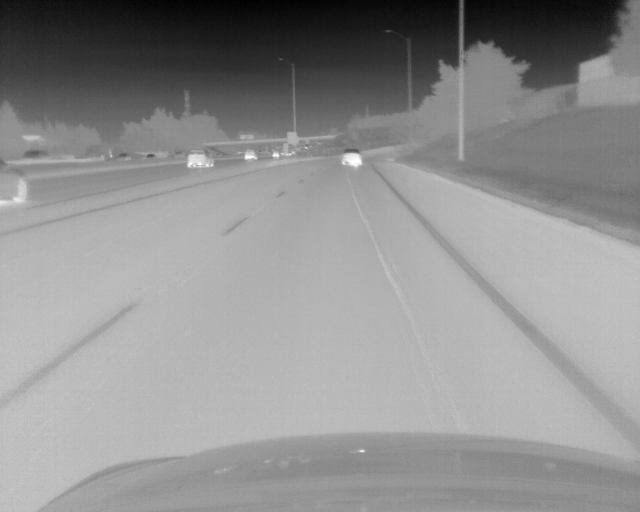car: (1, 155, 28, 204), (186, 148, 214, 168), (341, 147, 362, 167), (244, 148, 258, 162), (271, 150, 280, 158)
